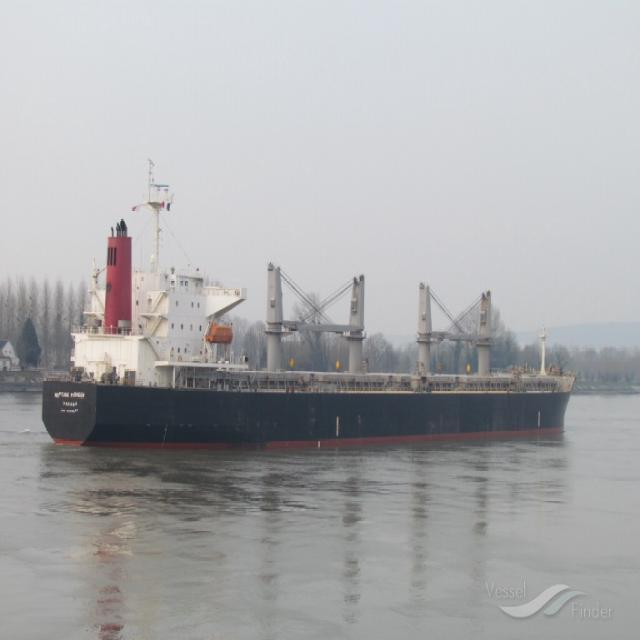OCR: (51, 389, 88, 431)
